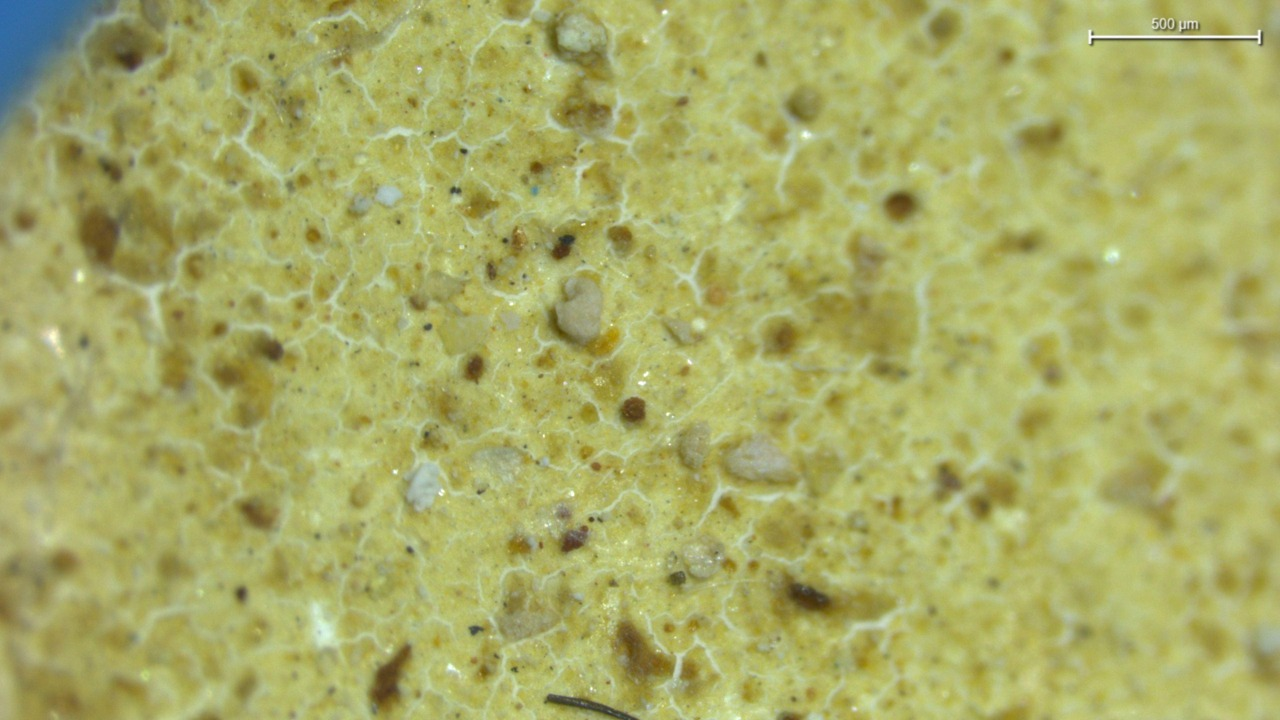microplastic_fragment: (555, 276, 602, 344), (405, 462, 444, 512)
